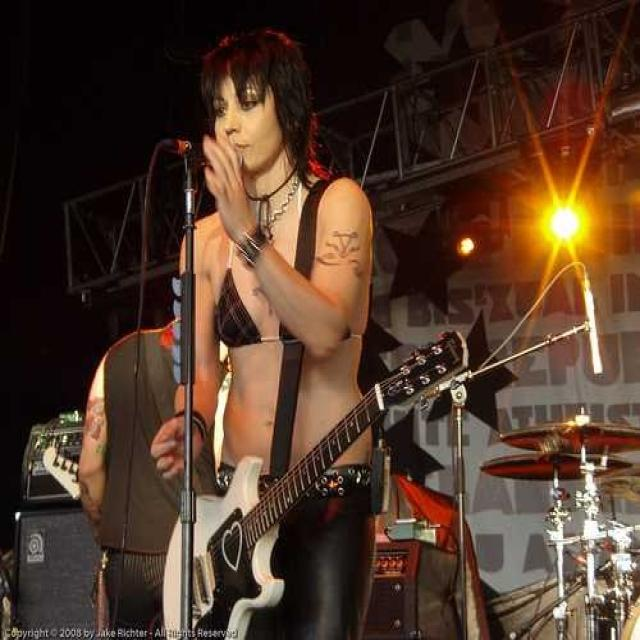microphone: (176, 144, 275, 180), (582, 276, 602, 373)
